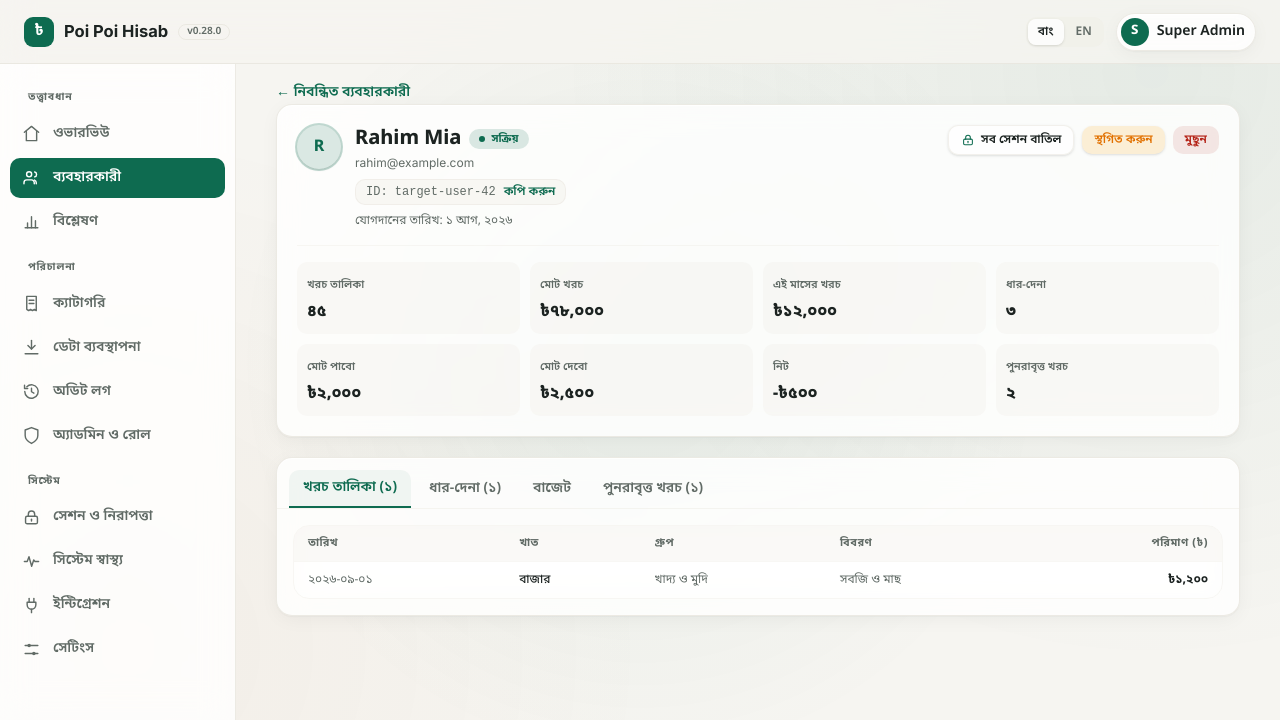
/admin/users/:userId › reports a clipboard rejection without claiming success
The width and height of the screenshot is (1280, 720).
Click the button "কপি করুন".
click(530, 192)  # box [504, 184, 555, 200]
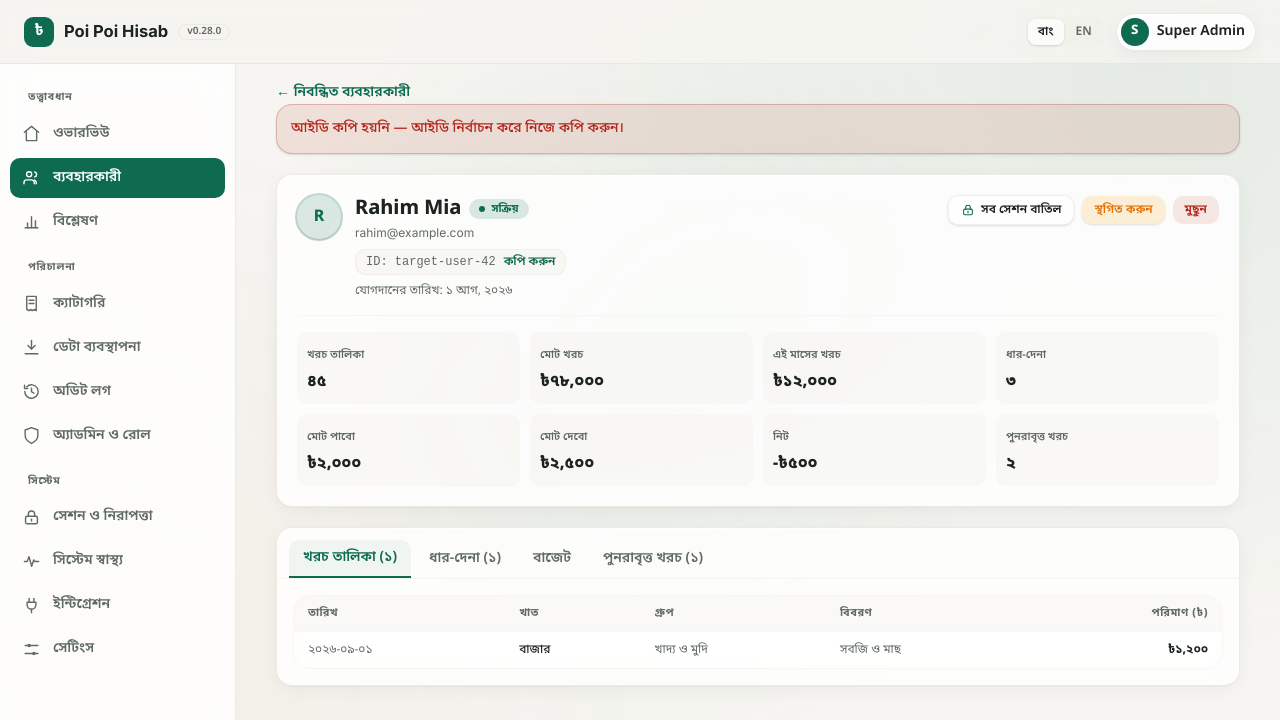
Result: the message reads "আইডি কপি হয়নি — আইডি নির্বাচন করে নিজে কপি করুন।" at [291, 119, 624, 138]
